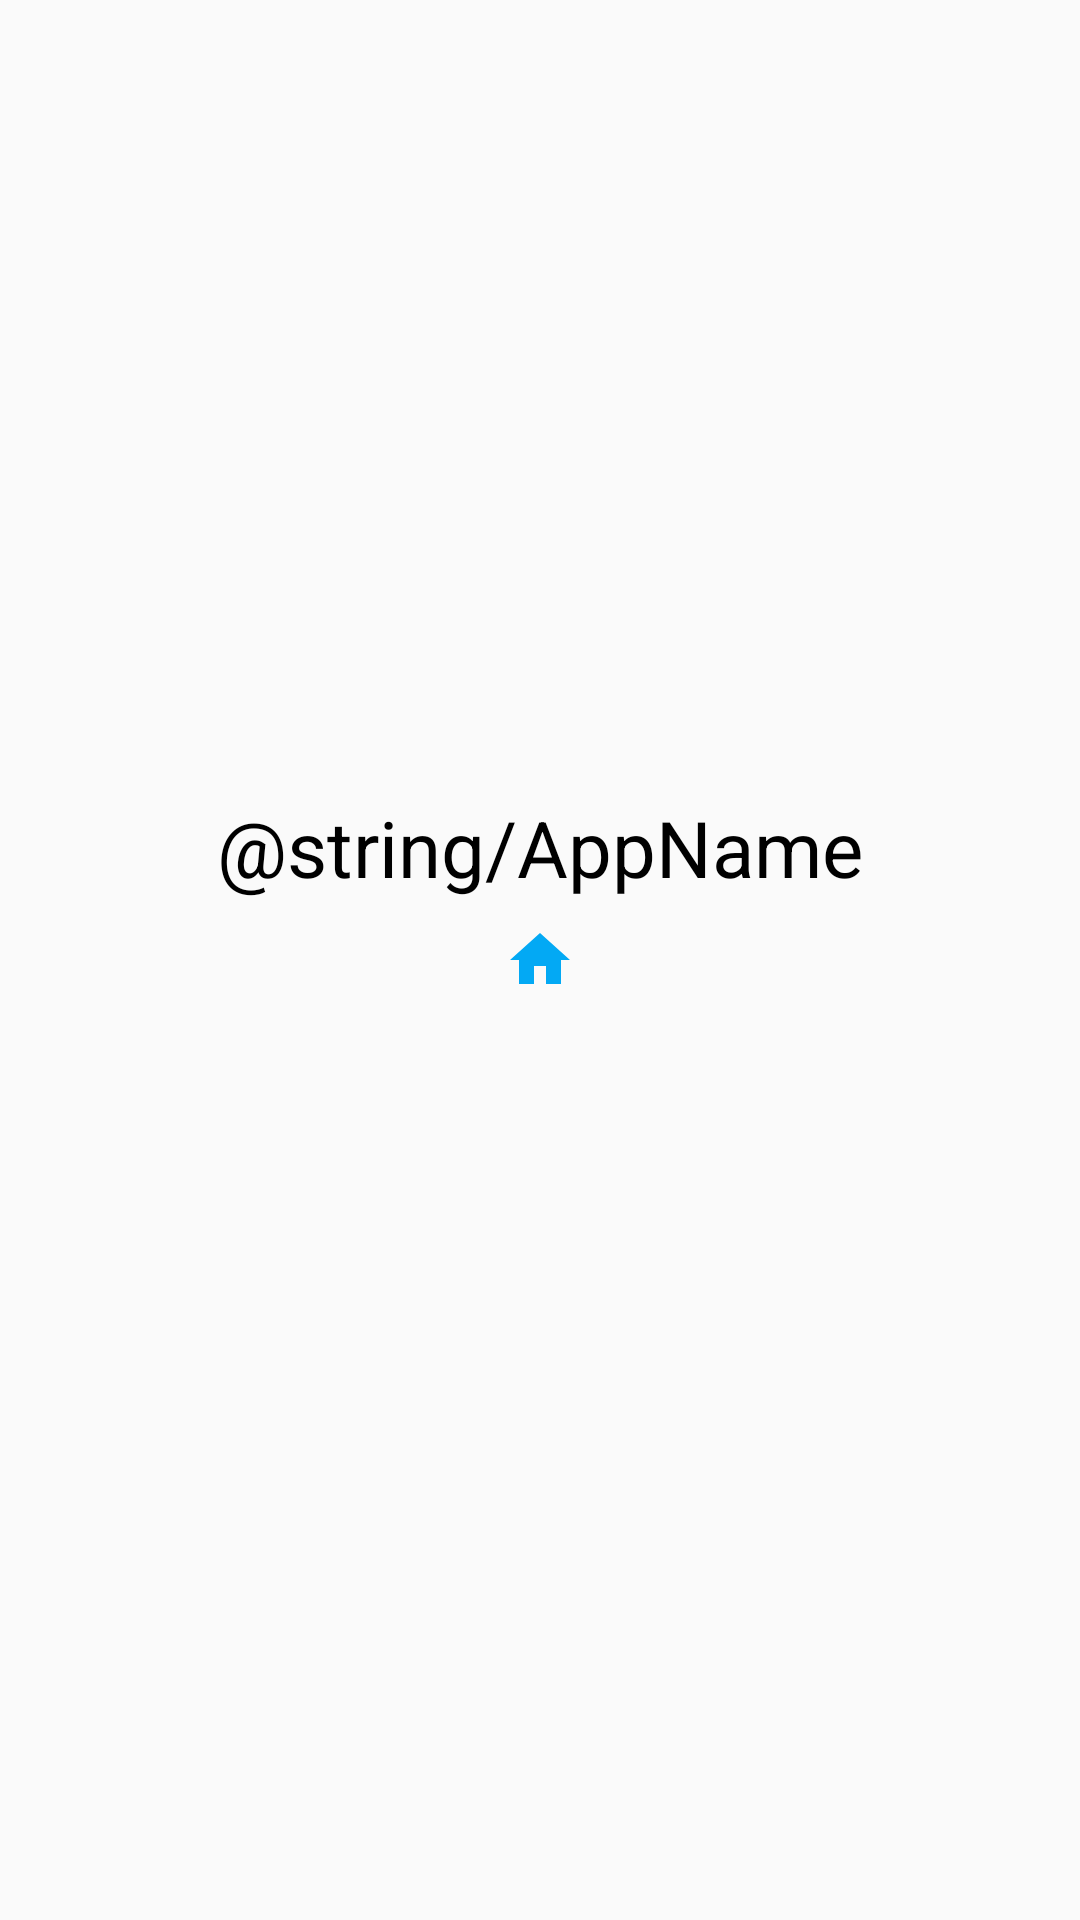

Icons on this 1080px×1920px Android screen, each with its box as (x1, y1, x2, y2):
home: (510, 933, 570, 984)
